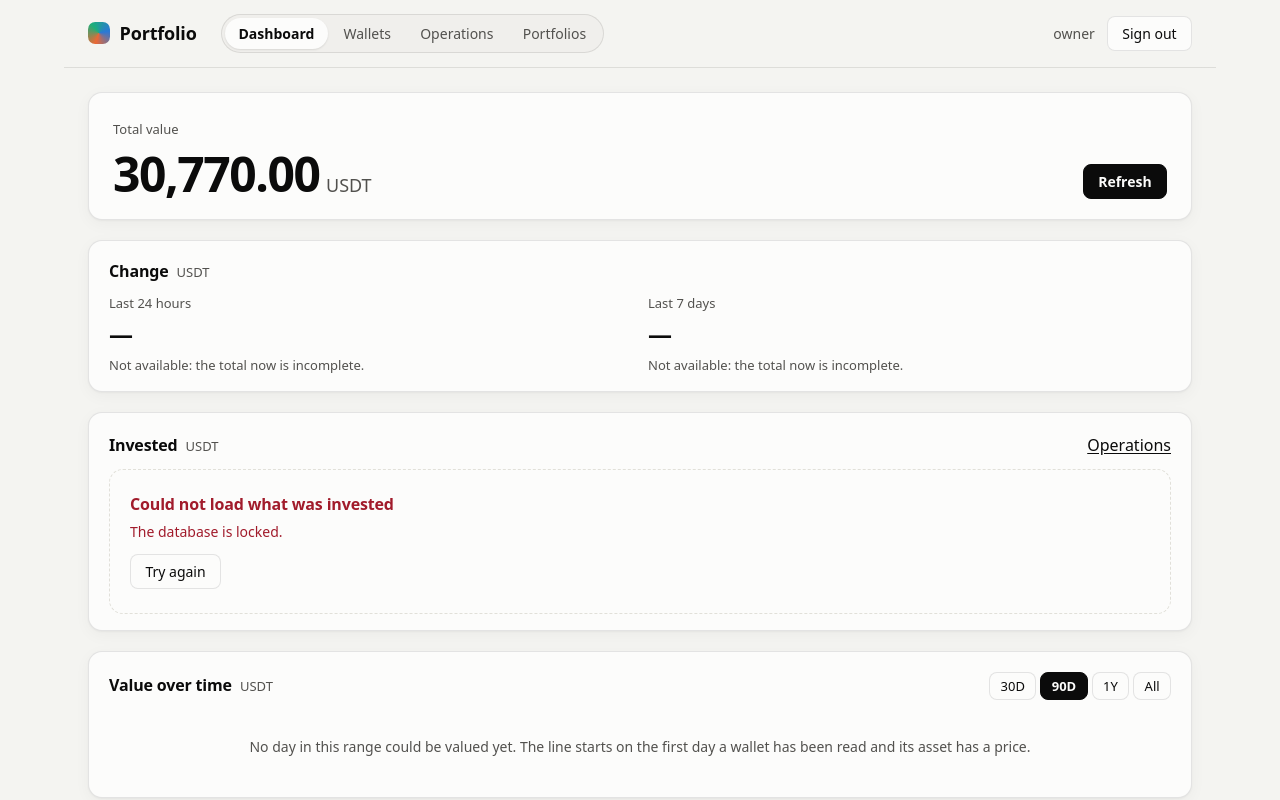
Test: DashboardPage: what was invested › says what failed and loads again on request
Check: the message shows "Could not load what was invested", box [130, 493, 394, 515]
Check: the message shows "The database is locked.", box [130, 522, 282, 541]
Step 1. Click the button "Try again" → [176, 572], box [130, 554, 221, 589]
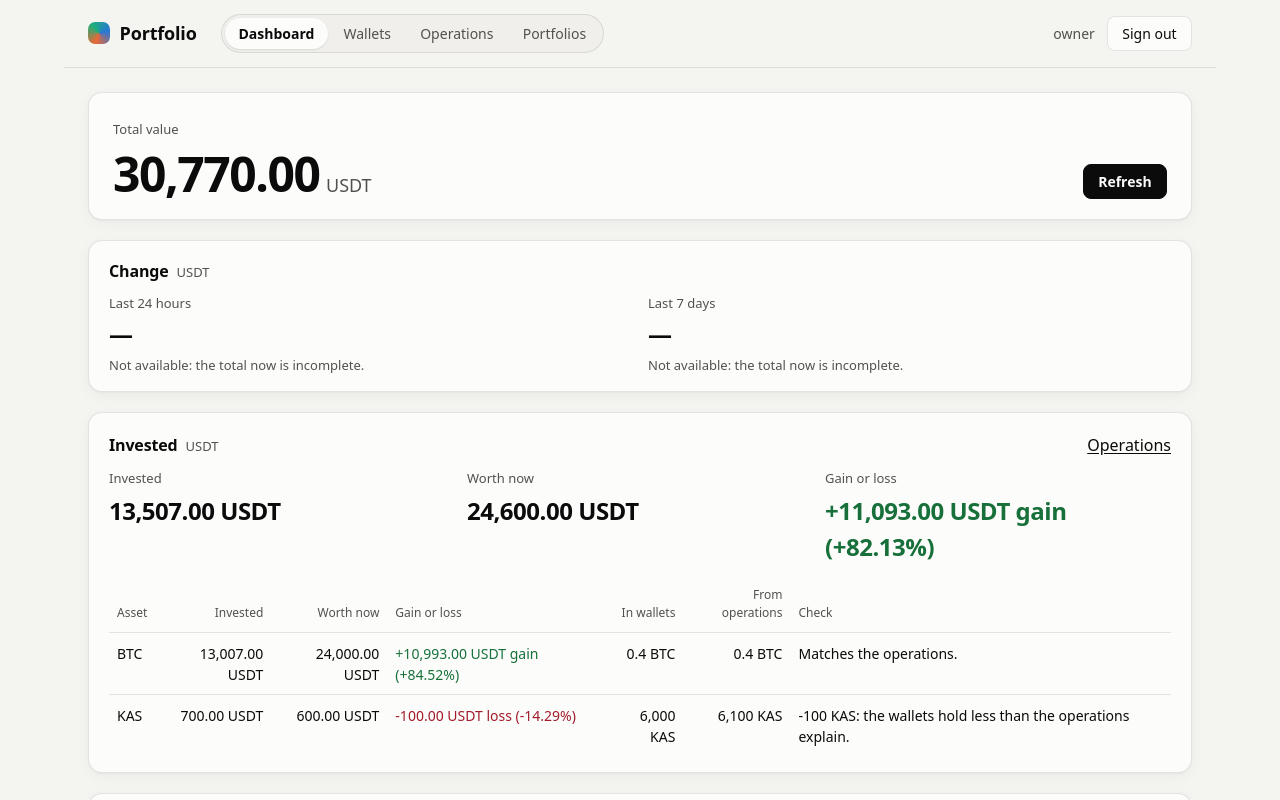
Check: the text "13,507.00 USDT" is shown, box [109, 494, 281, 527]
